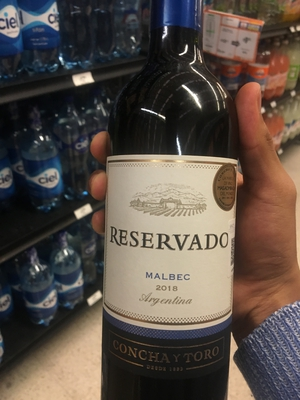reservado malbec: (98, 24, 234, 383)
